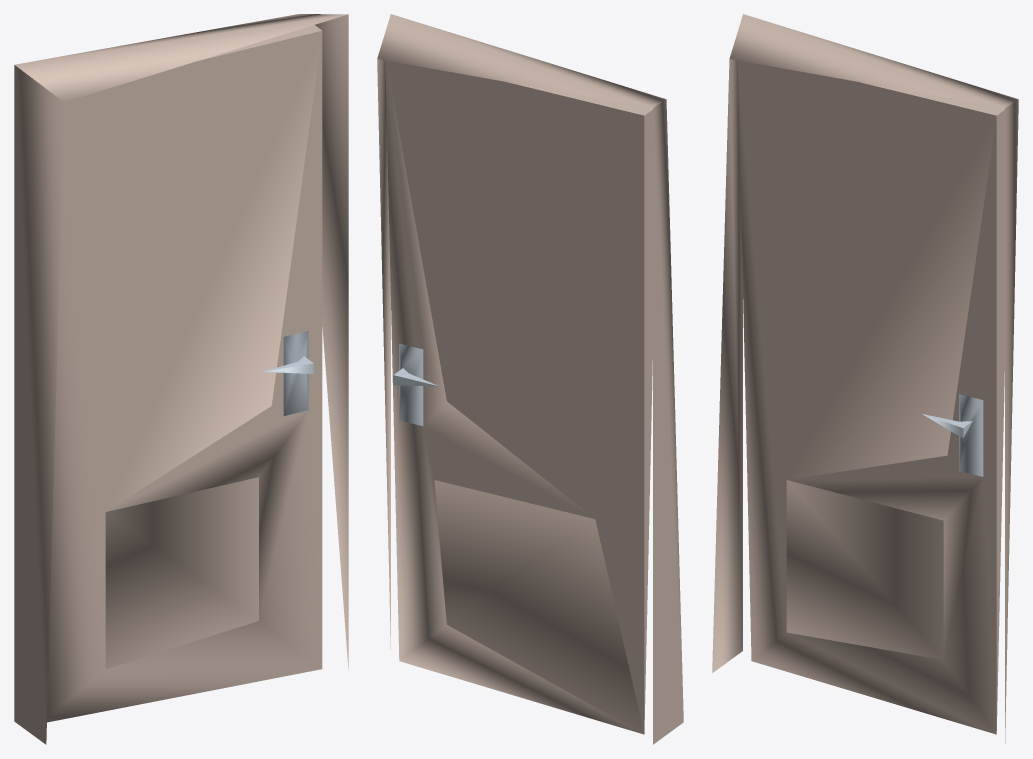
Rendered from doorway.glb.
3 renders of one model, left to right at view 1: azimuth 30°, elevation 25°; view 2: azimuth 150°, elevation 25°; view 3: azimuth 330°, elevation 25°, orthographic. The views are drawn at different scales.
Visible parts, largest first — view 1: door, Mesh doorway; view 2: door, Mesh doorway; view 3: door, Mesh doorway.
Part boxes in pixels (x1=…): door: x1=47, y1=25, x2=322, y2=722; Mesh doorway: x1=14, y1=14, x2=348, y2=744; door: x1=385, y1=60, x2=652, y2=734; Mesh doorway: x1=377, y1=14, x2=683, y2=744; door: x1=737, y1=60, x2=1004, y2=734; Mesh doorway: x1=712, y1=14, x2=1018, y2=743.
Bounding box in the file's own units: 0.486 × 1.01 × 0.1133.
